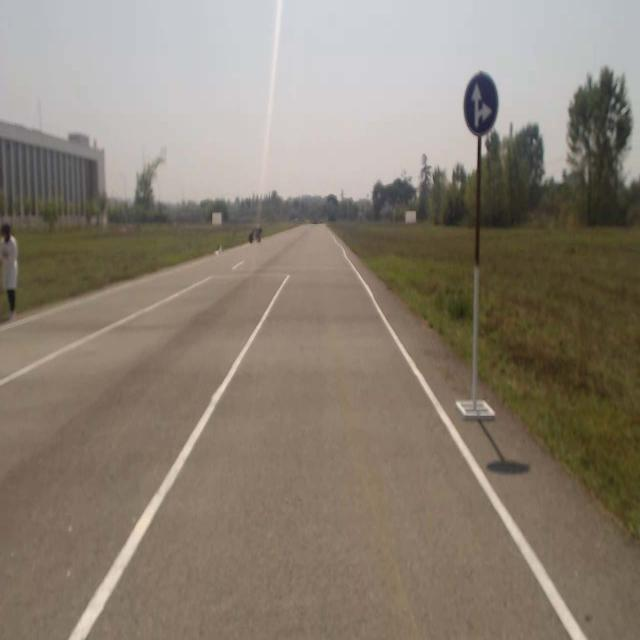ilerisag: (465, 73, 497, 131)
